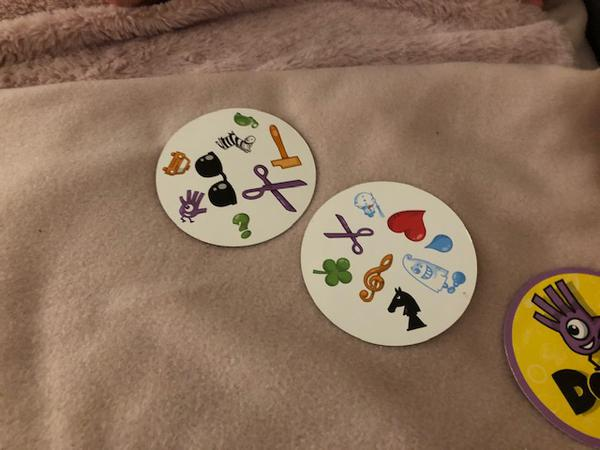bonhomme_neige: (344, 188, 387, 220)
cheval: (385, 284, 428, 336)
ciseau: (240, 162, 307, 214), (321, 212, 376, 257)
coeur: (386, 209, 427, 243)
dooble: (177, 188, 208, 223)
fantome: (401, 247, 464, 296)
goutte: (420, 229, 457, 254)
lunette: (194, 149, 238, 208)
marteau: (265, 120, 309, 173)
note: (354, 247, 395, 309)
point_interrogation: (231, 210, 255, 245)
tortue: (232, 110, 261, 131)
trefle: (310, 253, 354, 292)
voiture: (160, 147, 192, 177)
zebre: (216, 129, 259, 159)
